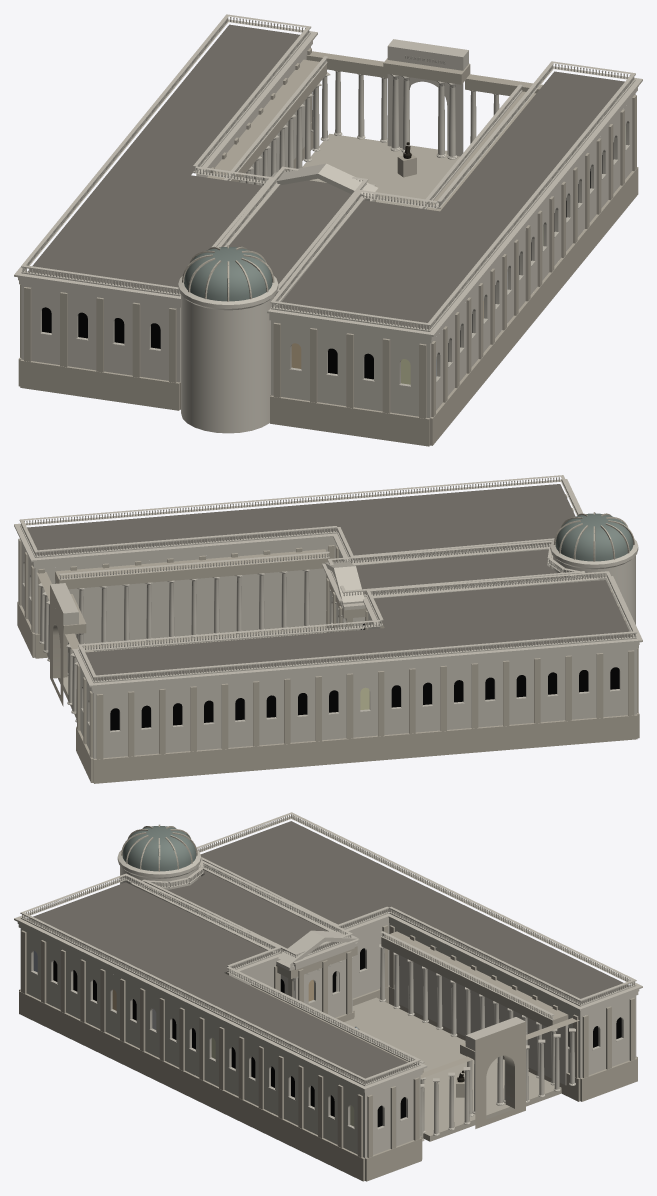
File: legion_lod0.glb
3 renders of one model, top to bottom at view 1: azimuth 30°, elevation 25°; view 2: azimuth 150°, elevation 25°; view 3: azimuth 270°, elevation 25°, orthographic. The views are drawn at different scales.
Parts seen in each view (by area): view 1: L0_stone, L0_roof, L0_paving, L0_metal, L0_gold; view 2: L0_stone, L0_roof, L0_metal, L0_paving, L0_gold; view 3: L0_stone, L0_roof, L0_paving, L0_metal, L0_gold.
Part boxes in pixels (x1,y1,x2,y2): L0_stone: [14, 14, 642, 446]; L0_roof: [28, 24, 624, 328]; L0_paving: [302, 133, 459, 207]; L0_metal: [184, 142, 411, 301]; L0_gold: [182, 245, 274, 301]; L0_stone: [14, 475, 642, 783]; L0_roof: [27, 484, 631, 680]; L0_metal: [555, 513, 633, 561]; L0_paving: [46, 625, 325, 717]; L0_gold: [553, 512, 634, 561]; L0_stone: [14, 812, 642, 1181]; L0_roof: [28, 821, 629, 1083]; L0_paving: [344, 997, 561, 1141]; L0_metal: [122, 826, 464, 1082]; L0_gold: [121, 824, 197, 871].
Size of the model in its own units: 109 by 24.52 by 106.
